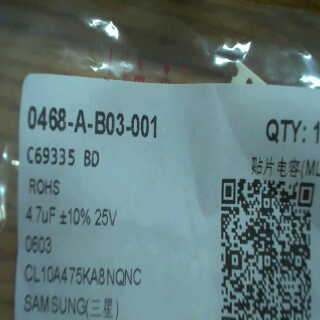4.7uF: (22, 205, 59, 228)
